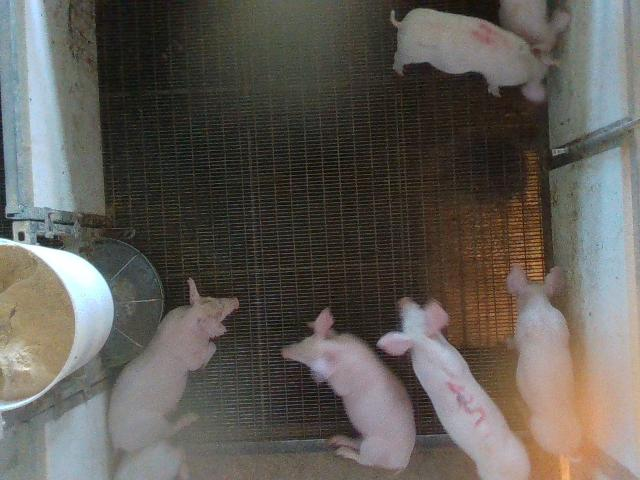pig-3: (378, 299, 530, 479)
pig-4: (391, 9, 558, 102)
